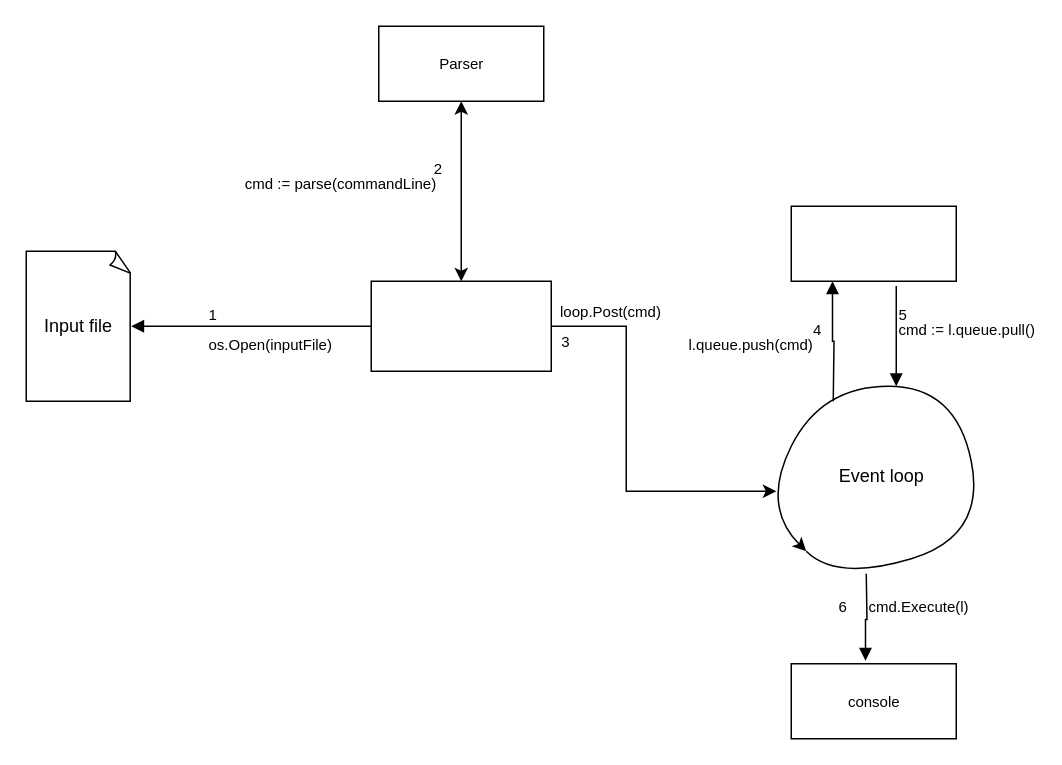
The diagram is 1062 pixels wide and 765 high, and some of its shapes have lost their labels. The shapes that lost their labels are listed below. From the top down, each one's box as (x1, y1, x2, y2) in pixels, then its label:
(790, 205, 956, 281): Message queue
(370, 280, 551, 371): Main
